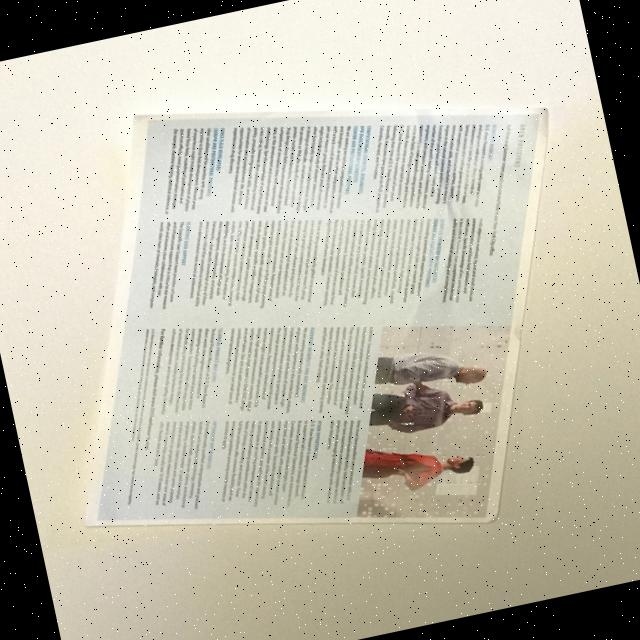paper: (2, 29, 629, 604)
